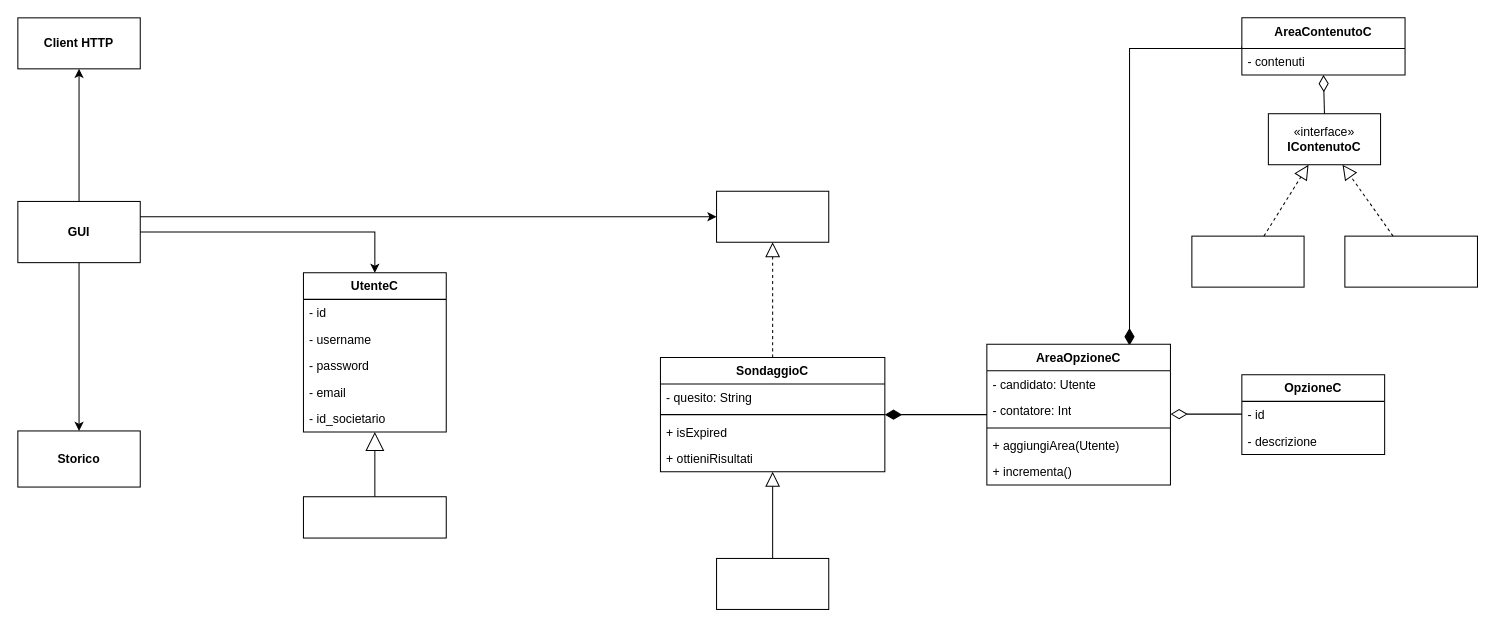
Image size: 1495x627. Some labels were removed from this diagram. The centre of each missing label's shape, as x and y in pixels:
"AmministratoreC" goes at pixel 374 517.
"ContenutoImmagineC" goes at pixel 1410 261.
"ContenutoTestoC" goes at pixel 1247 261.
"Votazione" goes at pixel 772 583.
"«interface» IConsultazioneC" goes at pixel 772 216.
